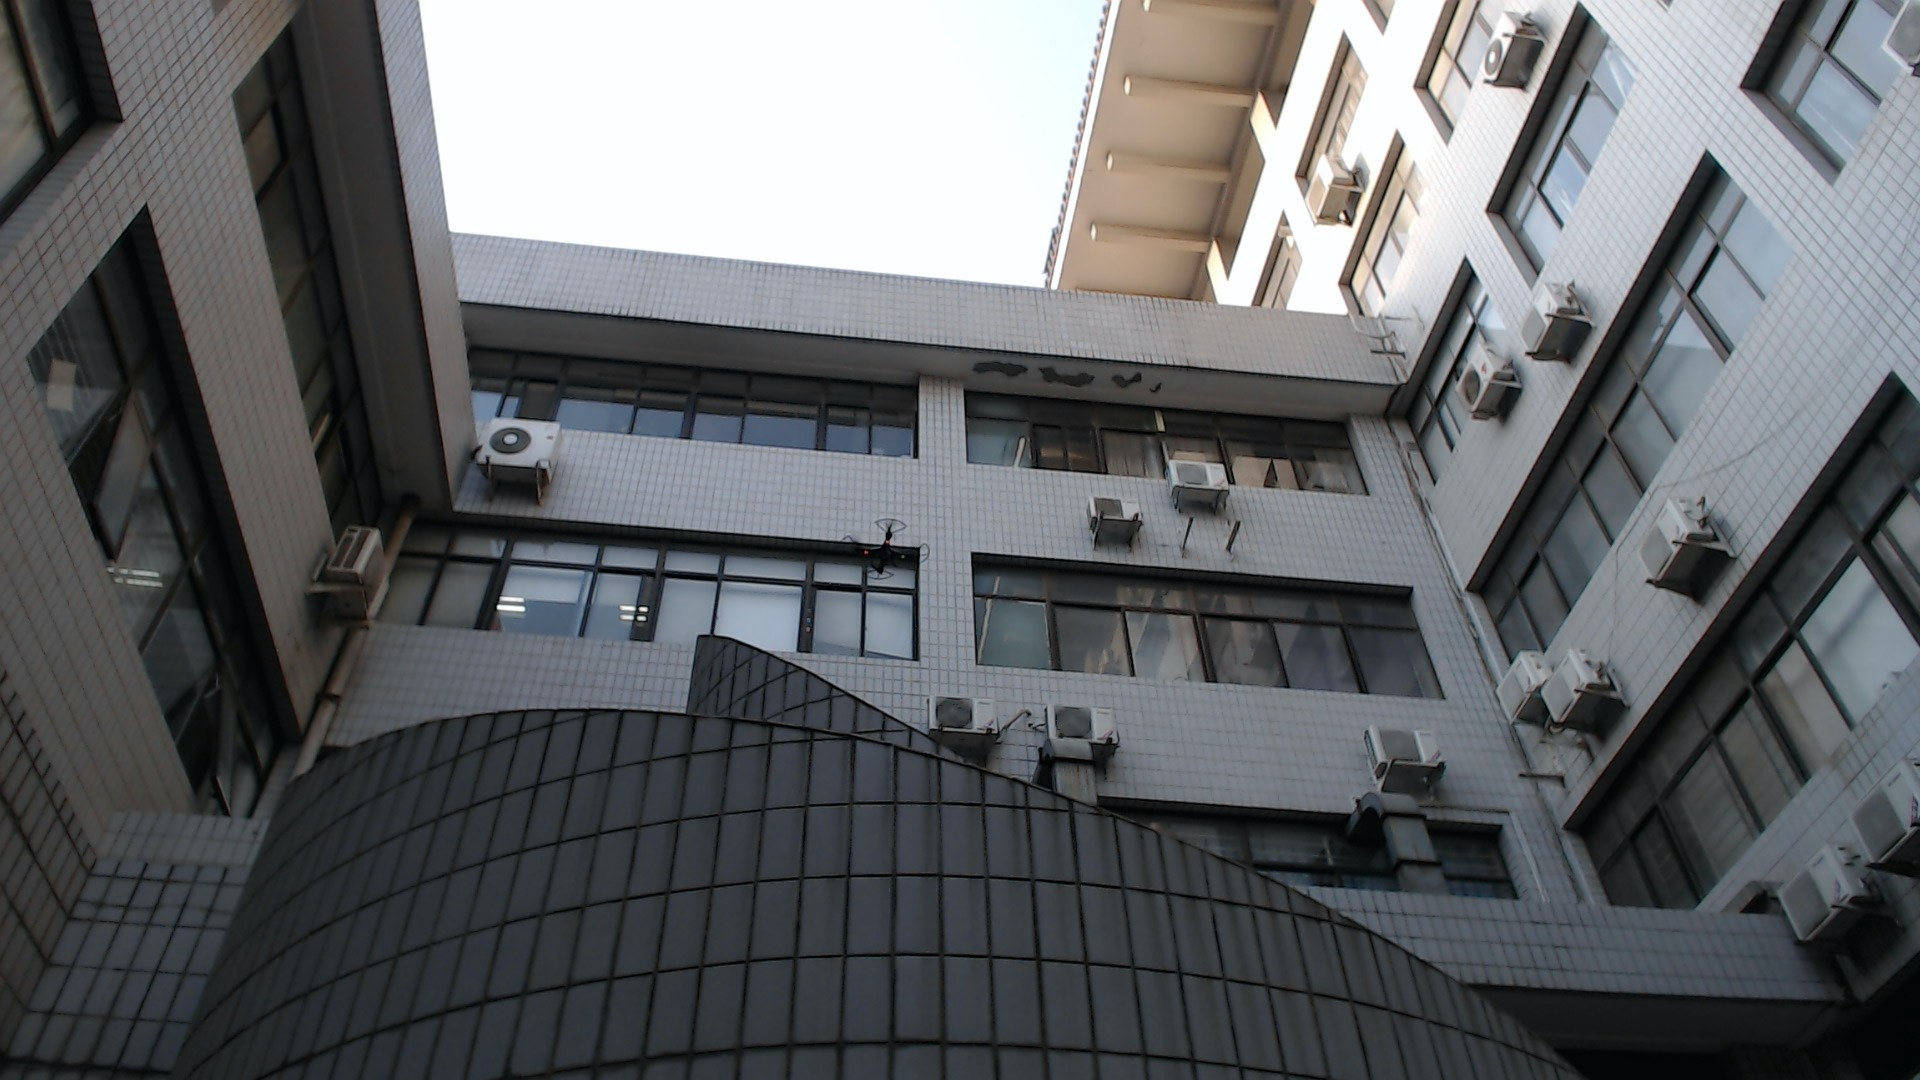drone: (820, 512, 949, 593)
